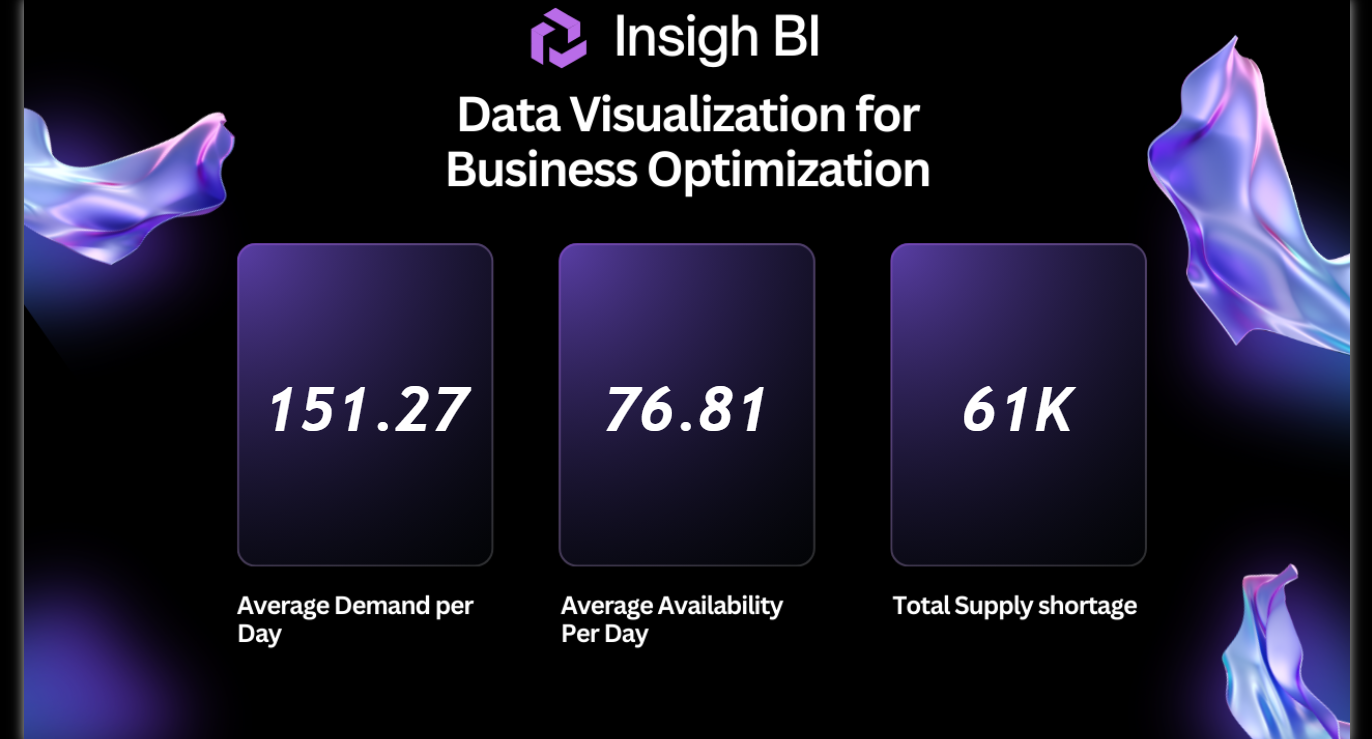

What the dashboard file says about the page in this screenshot:
{"tool":"powerbi","page":{"name":"Page 1","canvas":[1280,720],"ordinal":0},"visuals":[{"type":"card","fields":{"Values":["Measue Table.Average Demand Per Day"]},"box":[209.9,238.8,238.8,307.4],"z":0},{"type":"card","fields":{"Values":["Measue Table.Averagw Availability Per Day"]},"box":[520.1,238.8,238.8,307.4],"z":1000},{"type":"card","fields":{"Values":["Measue Table.Total Supply Shortage"]},"box":[839.8,238.8,238.8,307.4],"z":2000}]}

Visuals, with their boxes on the page's 1280x720 design canvas (x1, y1, x2, y2). These are canvas units, not pixel positions in the 1372x739 screenshot, which may show the page scaled, cropped or inside an application window:
card - Measue Table.Average Demand Per Day: locate(210, 239, 449, 546)
card - Measue Table.Averagw Availability Per Day: locate(520, 239, 759, 546)
card - Measue Table.Total Supply Shortage: locate(840, 239, 1079, 546)
